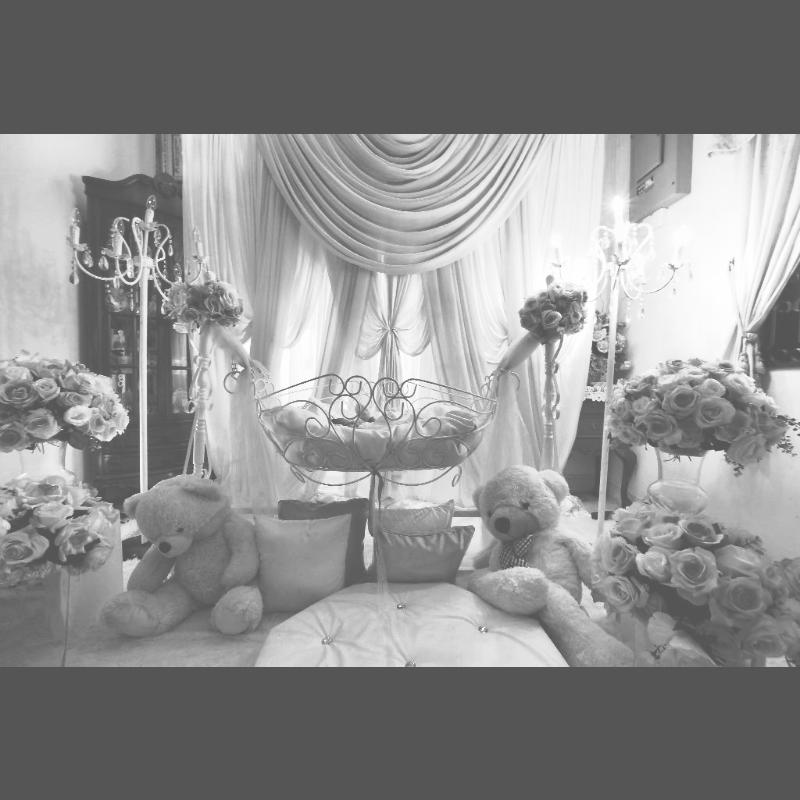pillow: (280, 494, 372, 592), (360, 524, 473, 584), (369, 498, 455, 532)
